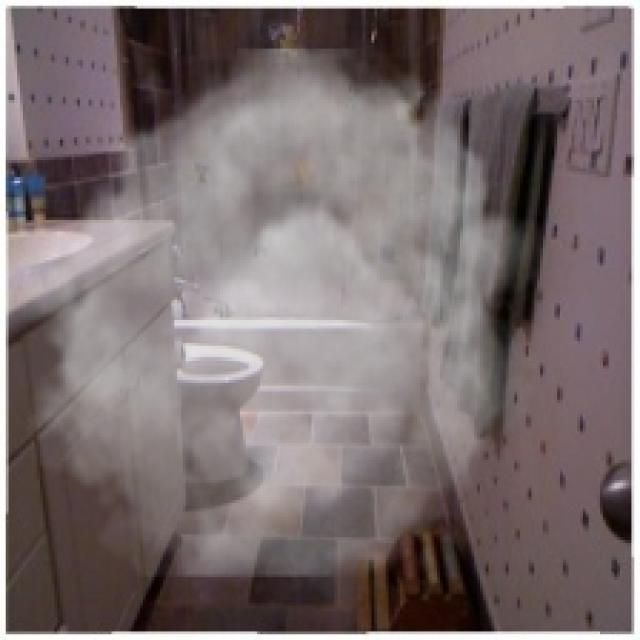smoke: (9, 49, 548, 577)
